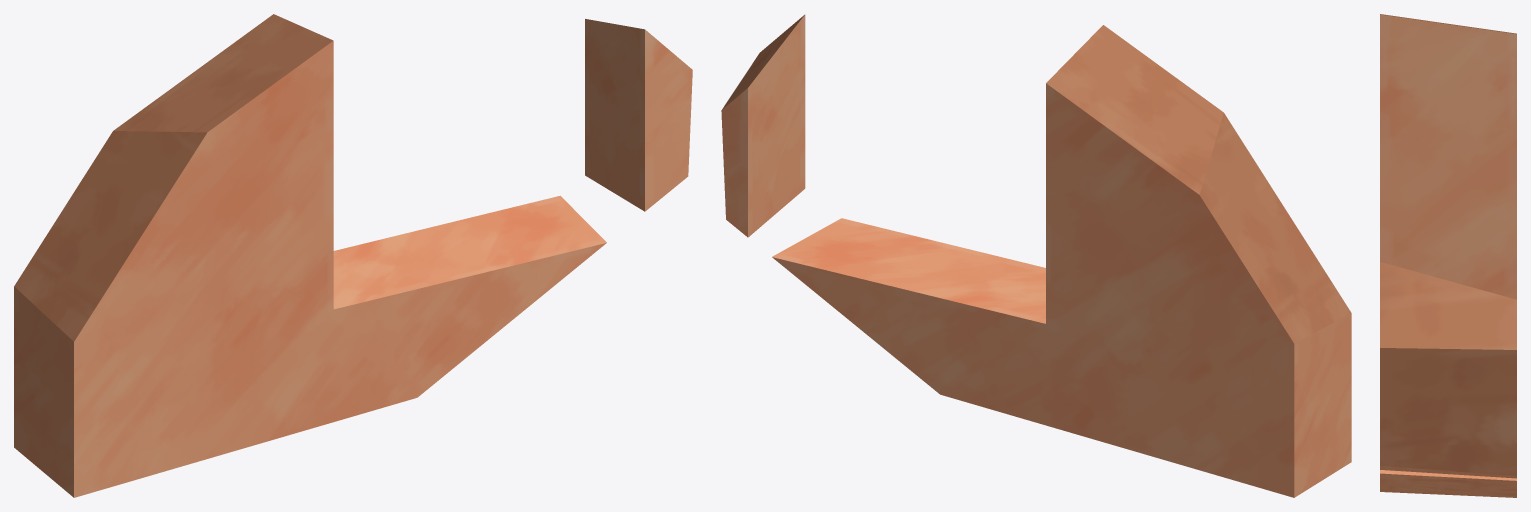
The model's file is wall_window_s03.fbx.
The picture shows the model from 3 angles, left to right: view 1: azimuth 30°, elevation 25°; view 2: azimuth 150°, elevation 25°; view 3: azimuth 270°, elevation 25°; orthographic projection. The views are drawn at different scales.
Parts seen in each view (by area): view 1: wall_window_s03; view 2: wall_window_s03; view 3: wall_window_s03.
Boxes of the visible parts, left/top/right/bottom form: wall_window_s03: left=14, top=14, right=692, bottom=497; wall_window_s03: left=721, top=14, right=1351, bottom=497; wall_window_s03: left=1380, top=14, right=1516, bottom=497.
Bounding box in the file's own units: 5.96 × 3.63 × 1.
